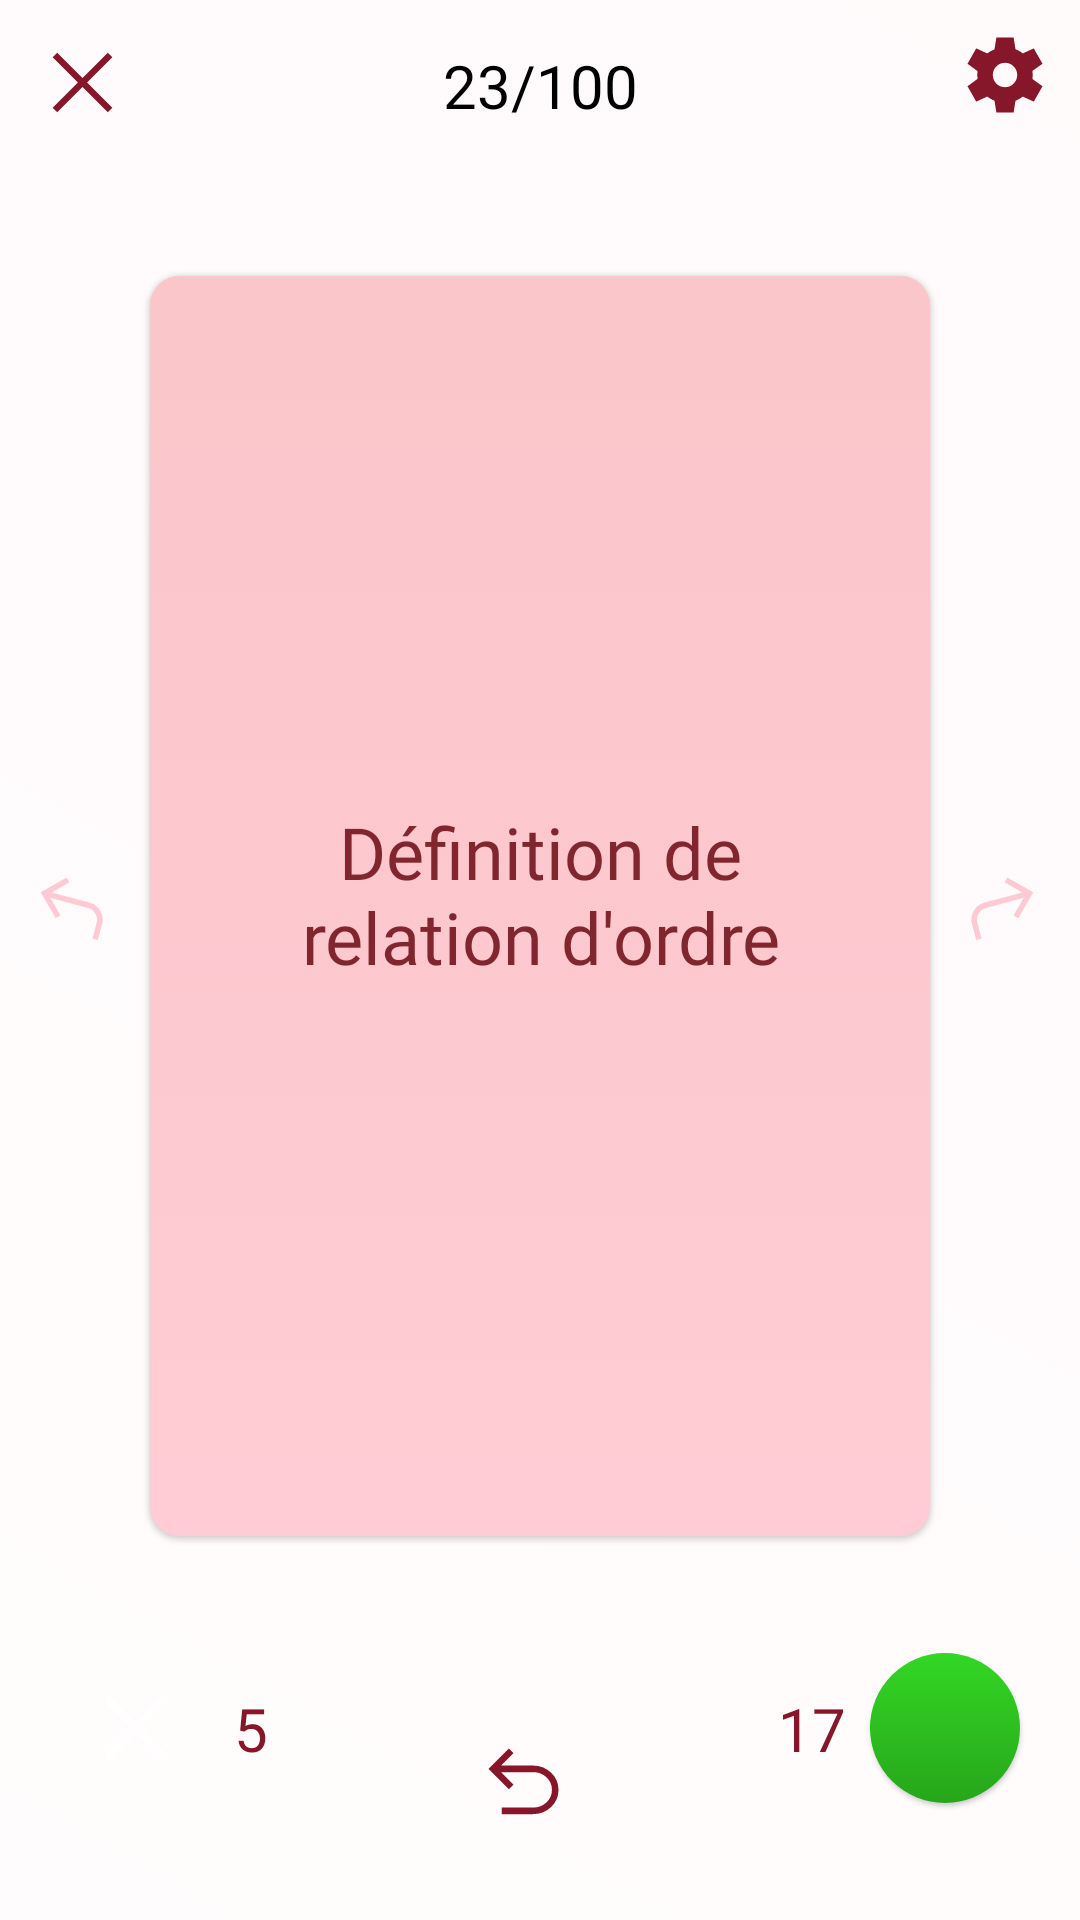

Screen size 1080x1920. Icon name, then its box in pixels as box=[x1, y1, x2, y2]:
close: box=[52, 53, 113, 112]
forward: box=[971, 878, 1033, 940]
reply: box=[41, 878, 103, 940]
settings: box=[967, 37, 1043, 113]
undo: box=[488, 1748, 559, 1815]
